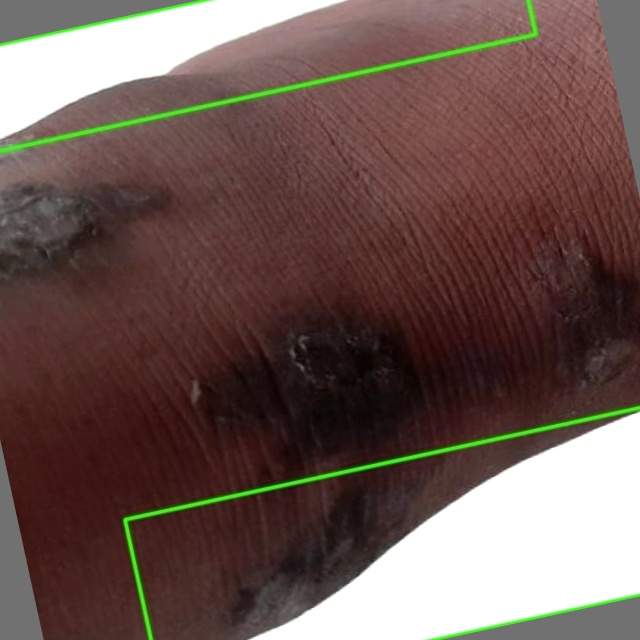Contact Dermatitis: (125, 408, 639, 639), (0, 0, 536, 150)
